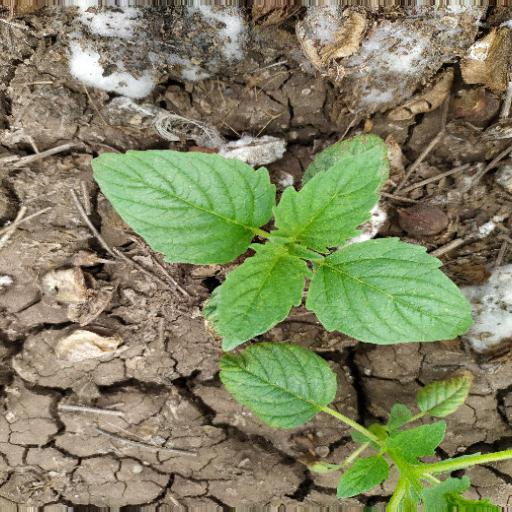crop: (53, 100, 492, 381)
